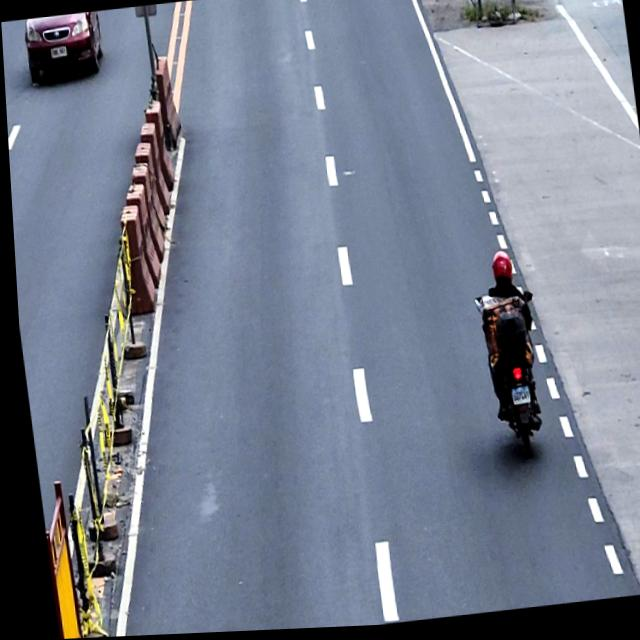Car: (21, 11, 105, 84)
License-Plate: (504, 387, 525, 411), (49, 45, 67, 60)
Motorcycle: (468, 291, 546, 467)
